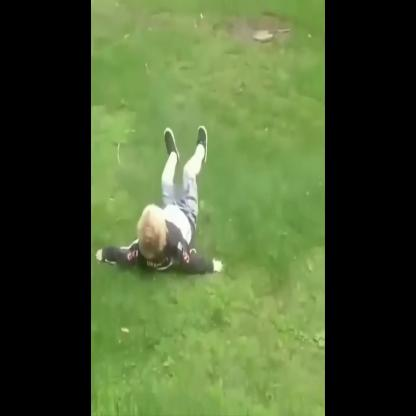Fall_Down: (94, 120, 226, 280)
